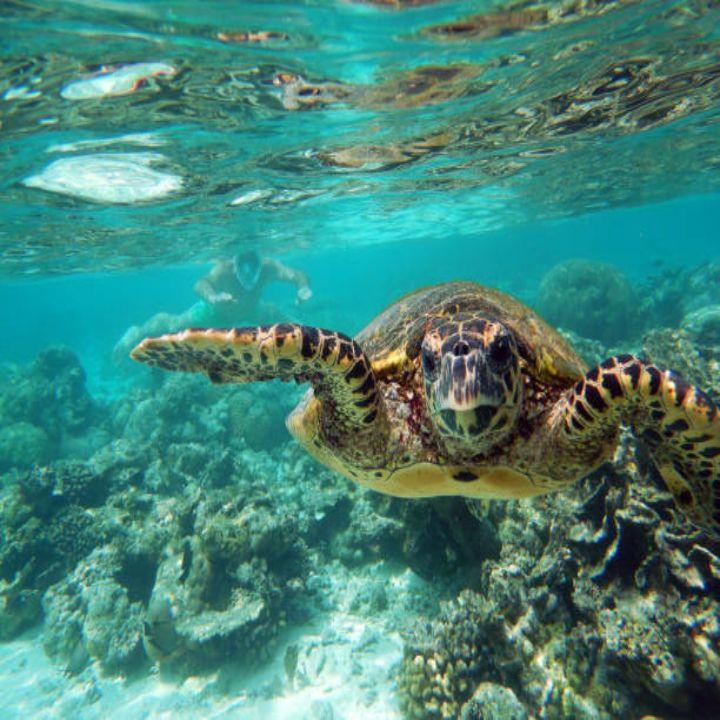Healthy Coral: (5, 381, 299, 645), (437, 535, 719, 709)
